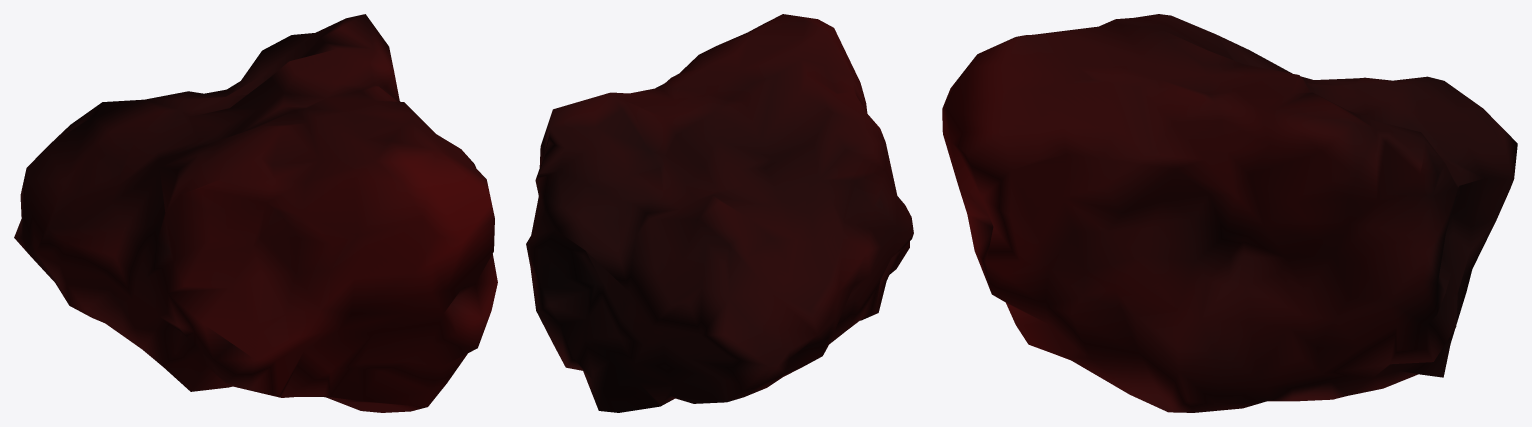
File: geology-rocks-meteoritesmall_v4.fbx
3 views of the same model, side by side, from view 1: azimuth 30°, elevation 25°; view 2: azimuth 150°, elevation 25°; view 3: azimuth 270°, elevation 25° (orthographic). The views are drawn at different scales.
Visible parts, largest first — view 1: MeteoriteSmall_v4; view 2: MeteoriteSmall_v4; view 3: MeteoriteSmall_v4.
Part boxes in pixels (box(x1,y1,x2,y2)): MeteoriteSmall_v4: box(14, 14, 497, 412); MeteoriteSmall_v4: box(526, 14, 913, 412); MeteoriteSmall_v4: box(942, 14, 1517, 412).
Bounding box in the file's own units: 1.18 × 1.11 × 1.71.
